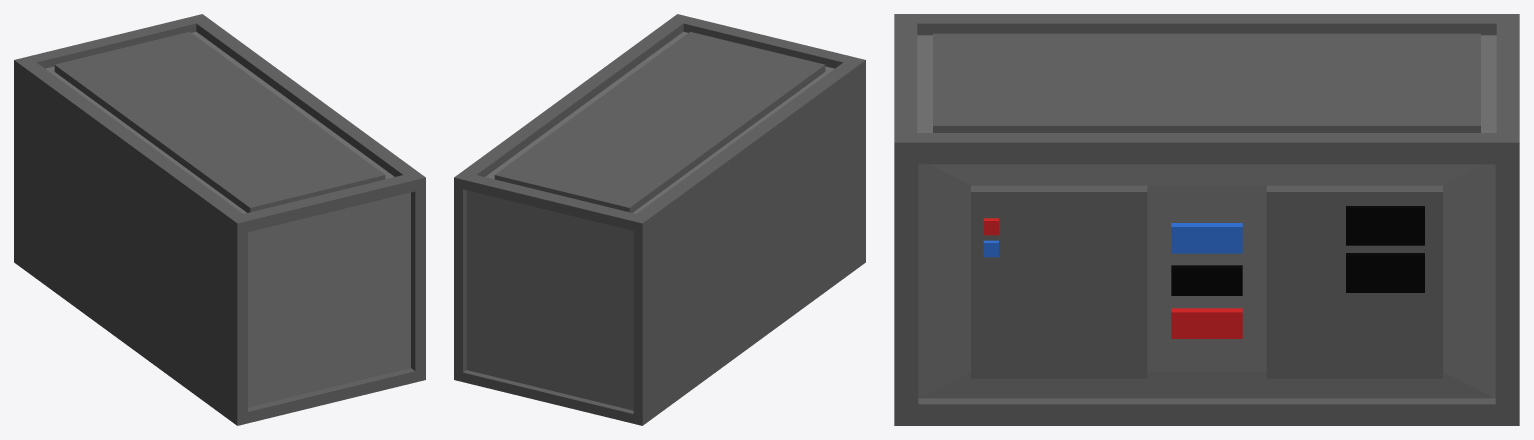
3 views of the same model, side by side, from view 1: azimuth 30°, elevation 25°; view 2: azimuth 150°, elevation 25°; view 3: azimuth 270°, elevation 25° (orthographic). The views are drawn at different scales.
Parts seen in each view (by area): view 1: component; view 2: component; view 3: component.
Part boxes in pixels (x1=…): component: x1=14, y1=14, x2=425, y2=425; component: x1=454, y1=14, x2=865, y2=425; component: x1=894, y1=14, x2=1519, y2=425.
Bounding box in the file's own units: 0.25 × 0.25 × 0.5.
